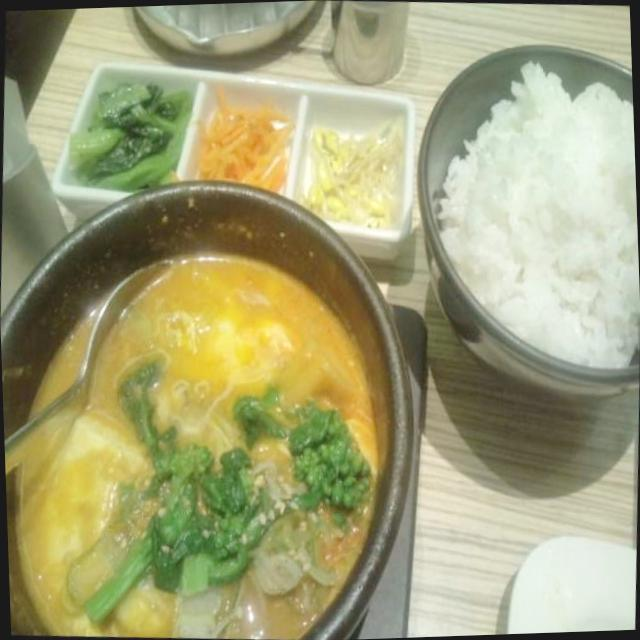Rice: (432, 59, 640, 367)
